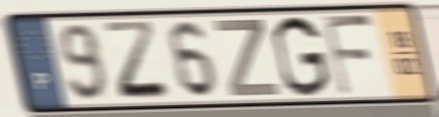6: (165, 18, 222, 101)
9: (57, 21, 113, 104)
F: (319, 12, 378, 99)
G: (269, 13, 333, 100)
Z: (99, 18, 175, 102), (211, 17, 284, 99)
